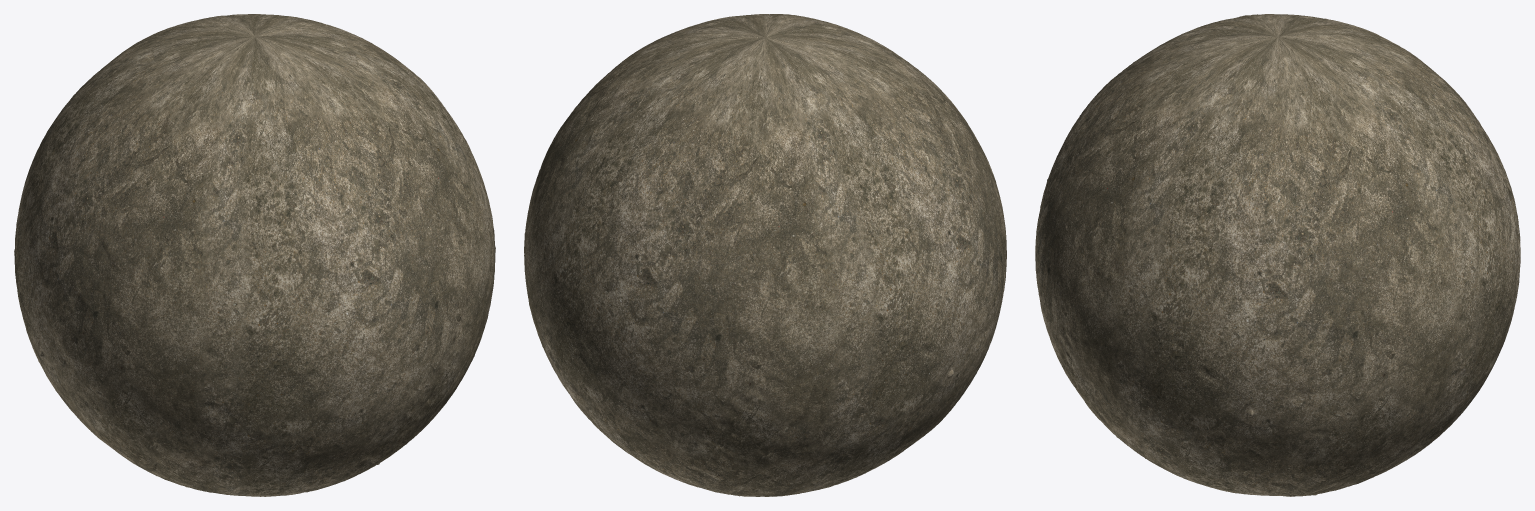
Rendered from concrete_floor_02_2k.gltf.
The picture shows the model from 3 angles, left to right: view 1: azimuth 30°, elevation 25°; view 2: azimuth 150°, elevation 25°; view 3: azimuth 270°, elevation 25°; orthographic projection.
Visible parts, largest first — view 1: sphere_gltf.001; view 2: sphere_gltf.001; view 3: sphere_gltf.001.
Boxes of the visible parts, x1=… form: sphere_gltf.001: x1=14, y1=14, x2=495, y2=496; sphere_gltf.001: x1=524, y1=14, x2=1006, y2=496; sphere_gltf.001: x1=1035, y1=14, x2=1520, y2=496.
Size of the model in its own units: 1.99 by 2.01 by 2.01.
Materials: 1 (1 with a texture image).
